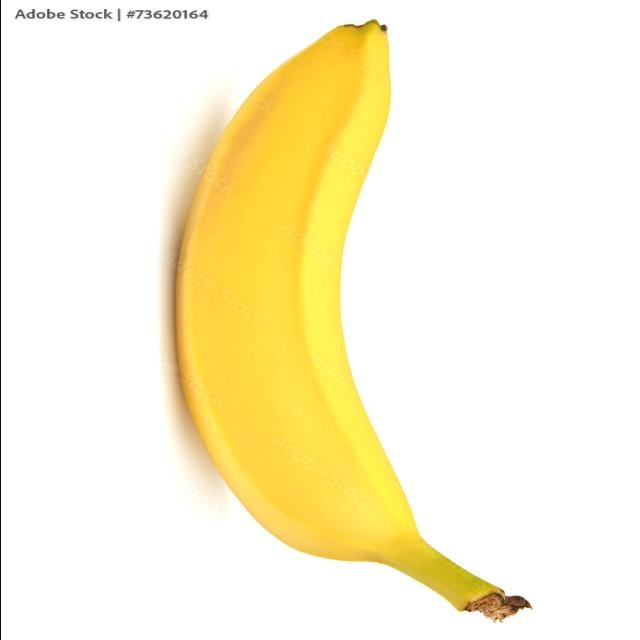agrume: (169, 16, 535, 624)
